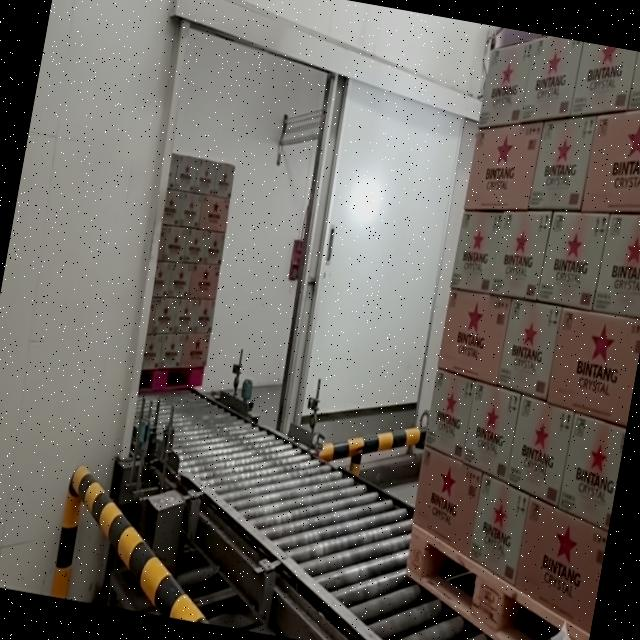pallet: (378, 25, 640, 640), (124, 140, 251, 416)
